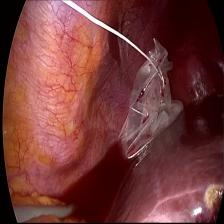Specimen Bag: (107, 30, 199, 174)
